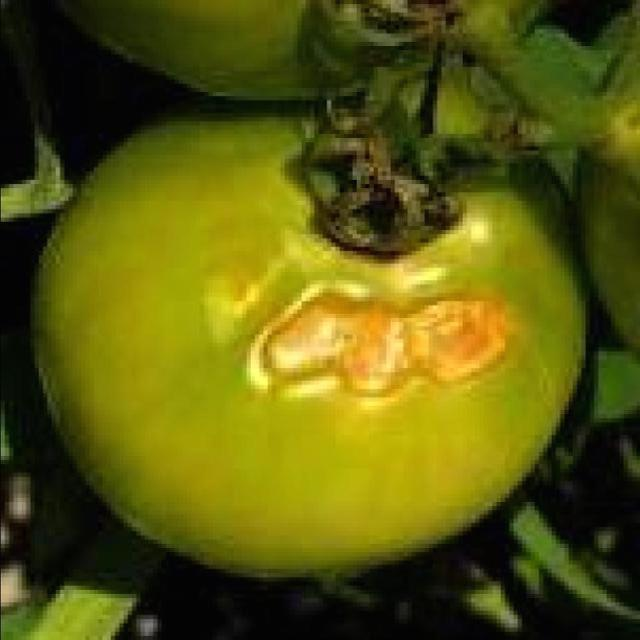Blossom End Rot Fruit: (145, 169, 346, 289)
